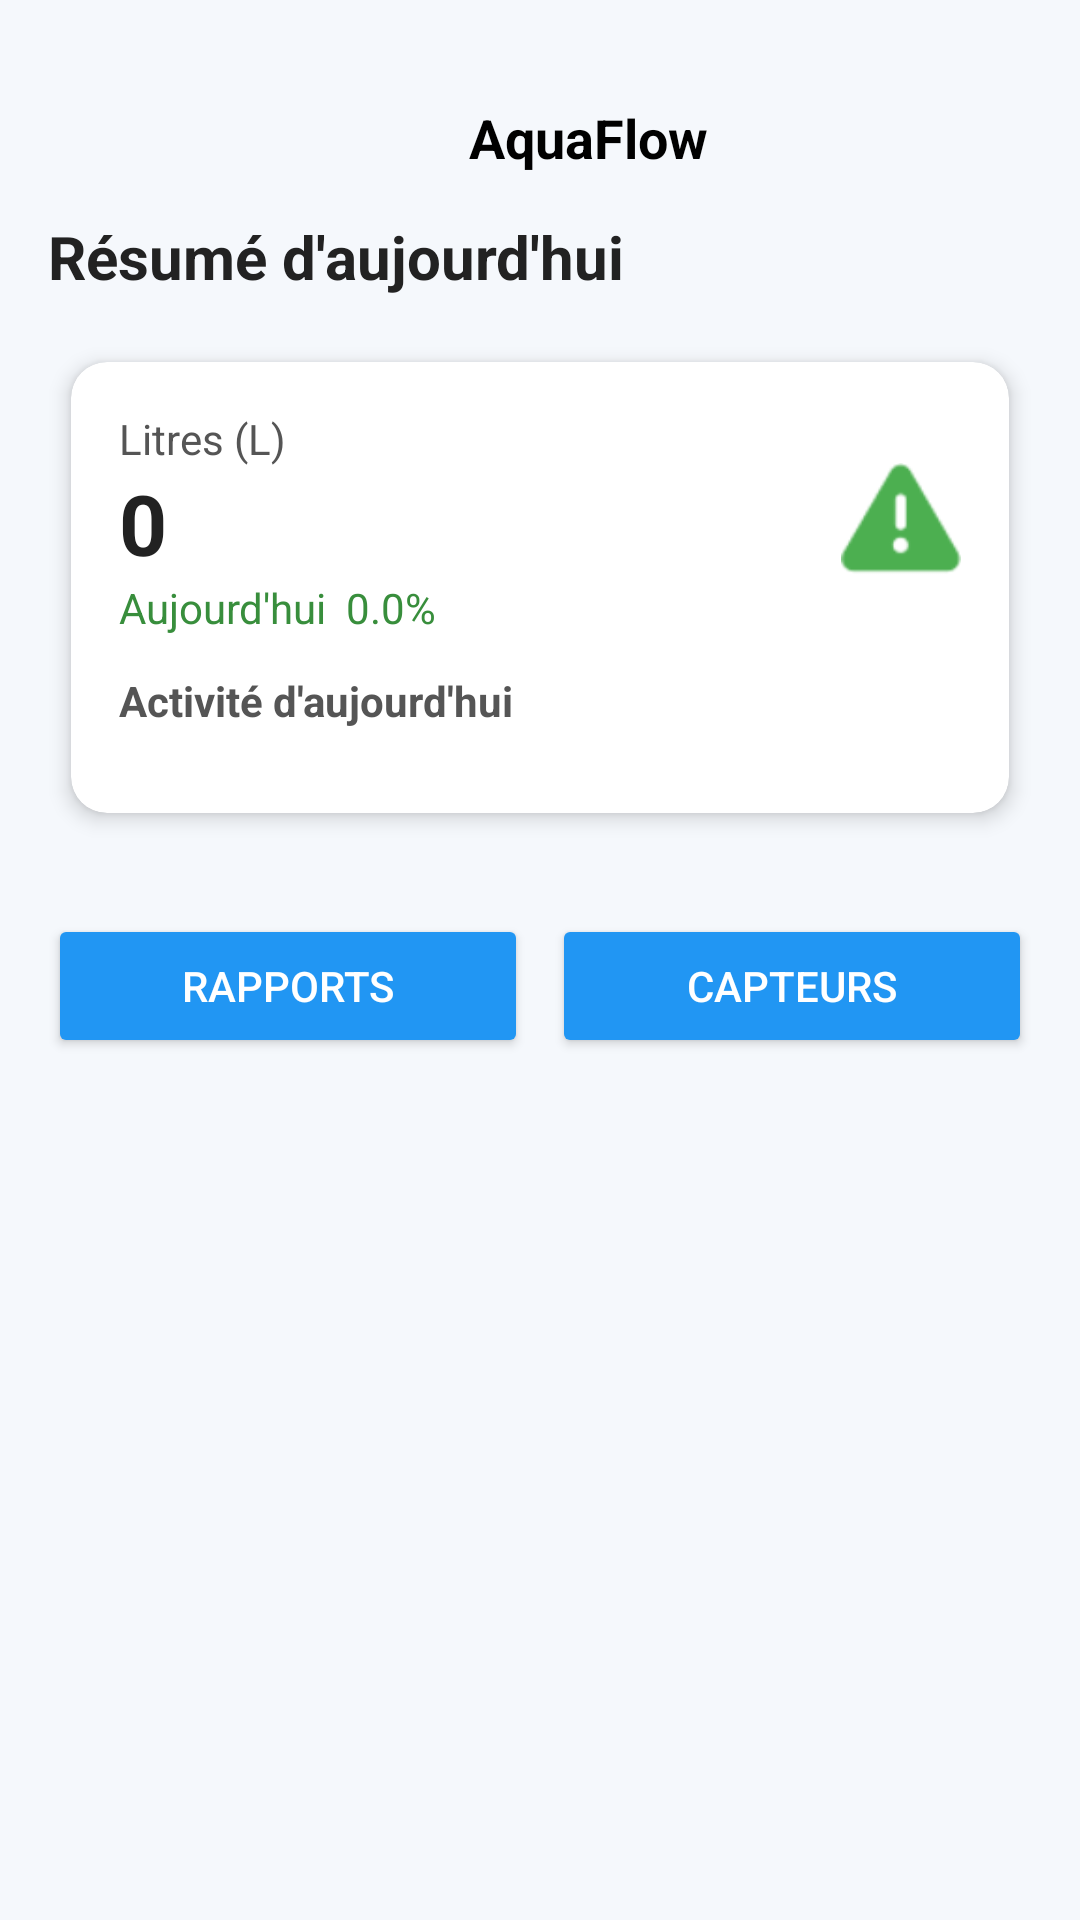

Named icons in this screenshot (1080px×1920px) and their bounding boxes, (x1, y1, x2, y2):
alert: (841, 463, 961, 572)
